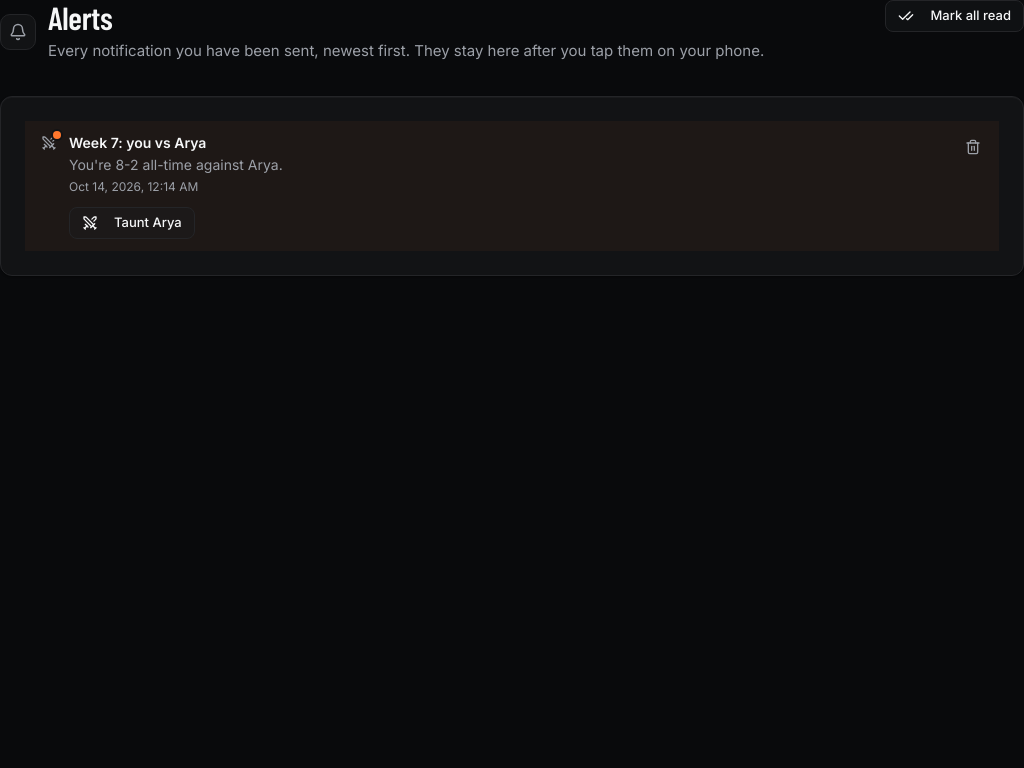
AlertsPage › offers a taunt on a matchup fact that can still be sent
The image size is (1024, 768).
Click the button "Taunt Arya" at {"x": 132, "y": 223}, box [69,207,195,239]
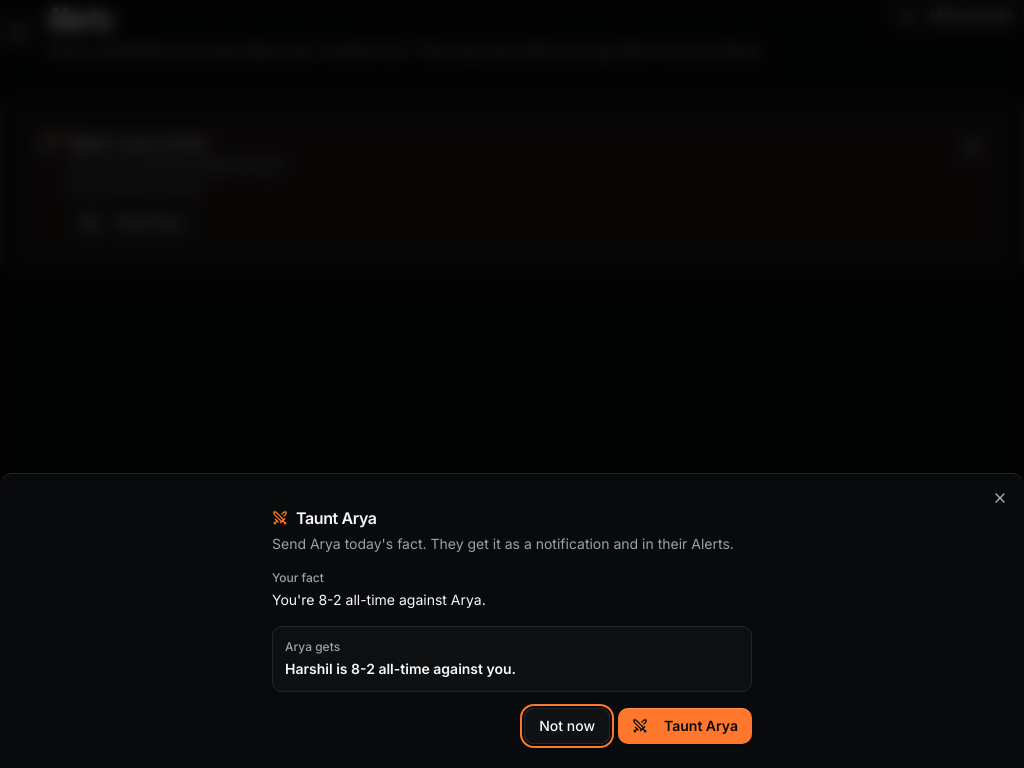
Result: the text "Harshil is 8-2 all-time against you." is shown at [285,660,516,677]
